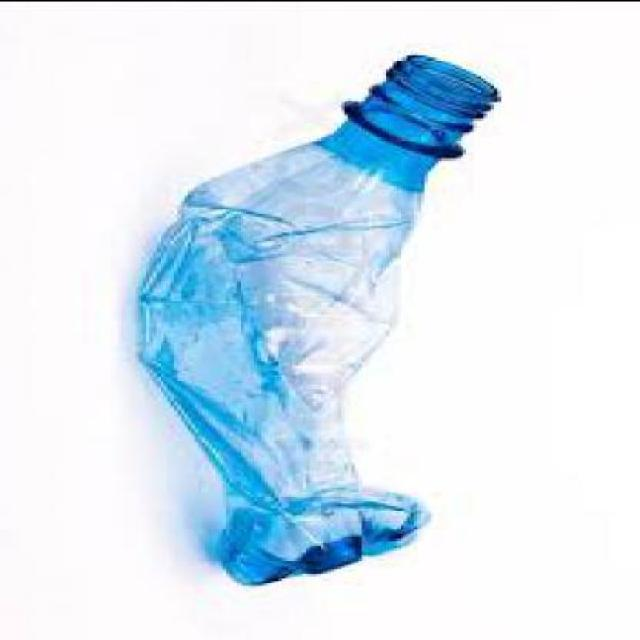PLASTIC: (136, 56, 504, 589)
